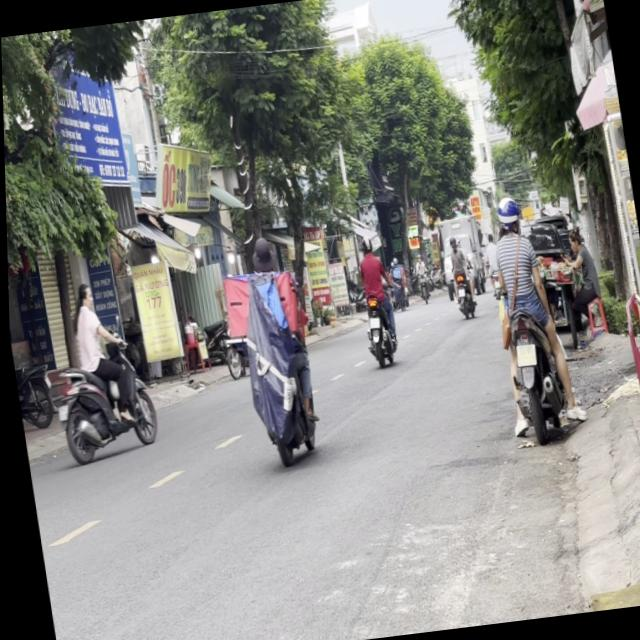helmet: (492, 194, 520, 236)
licenseplate: (473, 188, 579, 447), (31, 272, 163, 470), (222, 228, 324, 471)
motorcyclist: (246, 234, 275, 275), (68, 278, 93, 318)
nohelmet: (512, 343, 534, 366)
